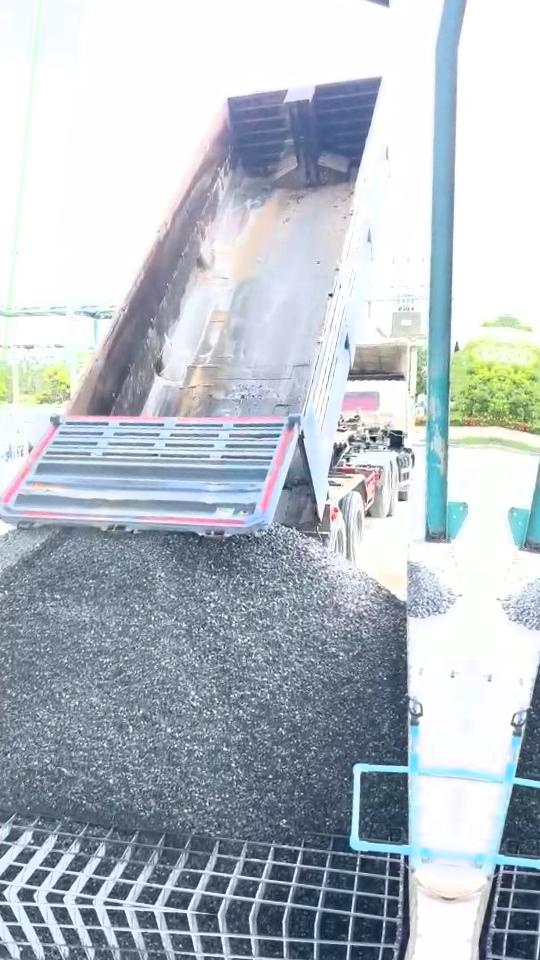gravel: (0, 527, 407, 841), (0, 529, 53, 588), (407, 562, 456, 618), (362, 776, 406, 838)
